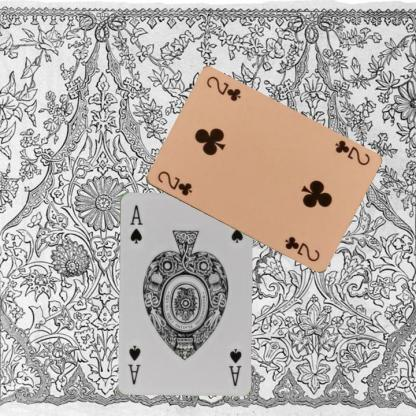2c: (332, 137, 372, 167), (154, 168, 192, 198)
As: (226, 346, 242, 386), (127, 203, 142, 245)
